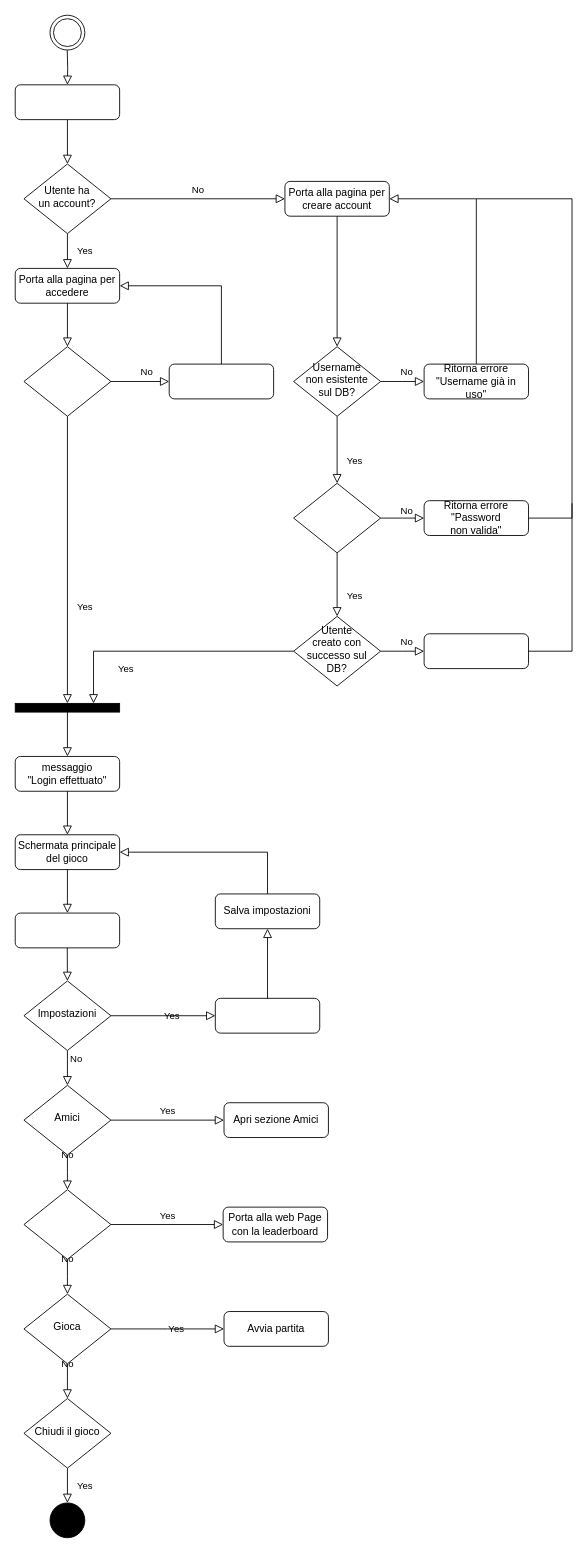
Some shapes in this 588 by 1553 pixel diagram are drawn without their labels. The shapes that lost their labels are listed below. From the top down, each one's box as (x1, y1, x2, y2) in pixels, then its label:
(14, 84, 120, 120): Apri gioco
(23, 346, 111, 416): Dati di login validi?
(168, 363, 274, 399): Ritorna errore all'utente
(293, 482, 381, 553): Password valida?
(423, 633, 529, 669): Ritorna errore "Utente non creato, riprovare"
(14, 912, 120, 948): Utente seleziona
(214, 997, 320, 1033): Apri impostazioni
(23, 1189, 111, 1259): Leaderboard
